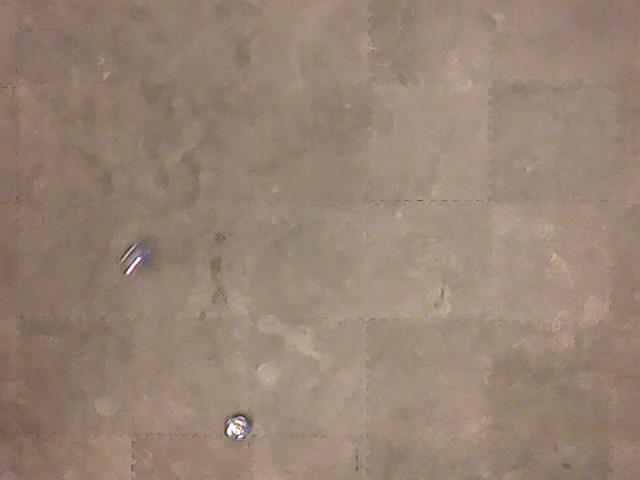Agent: (116, 239, 156, 278), (222, 411, 253, 443)
